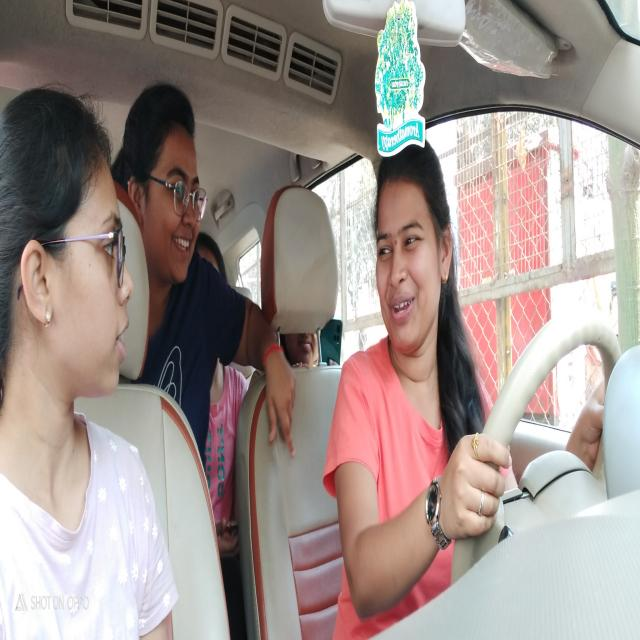LeftRight: (364, 136, 455, 389)
person: (0, 87, 137, 441), (137, 84, 209, 289)
talking: (386, 293, 417, 324)
